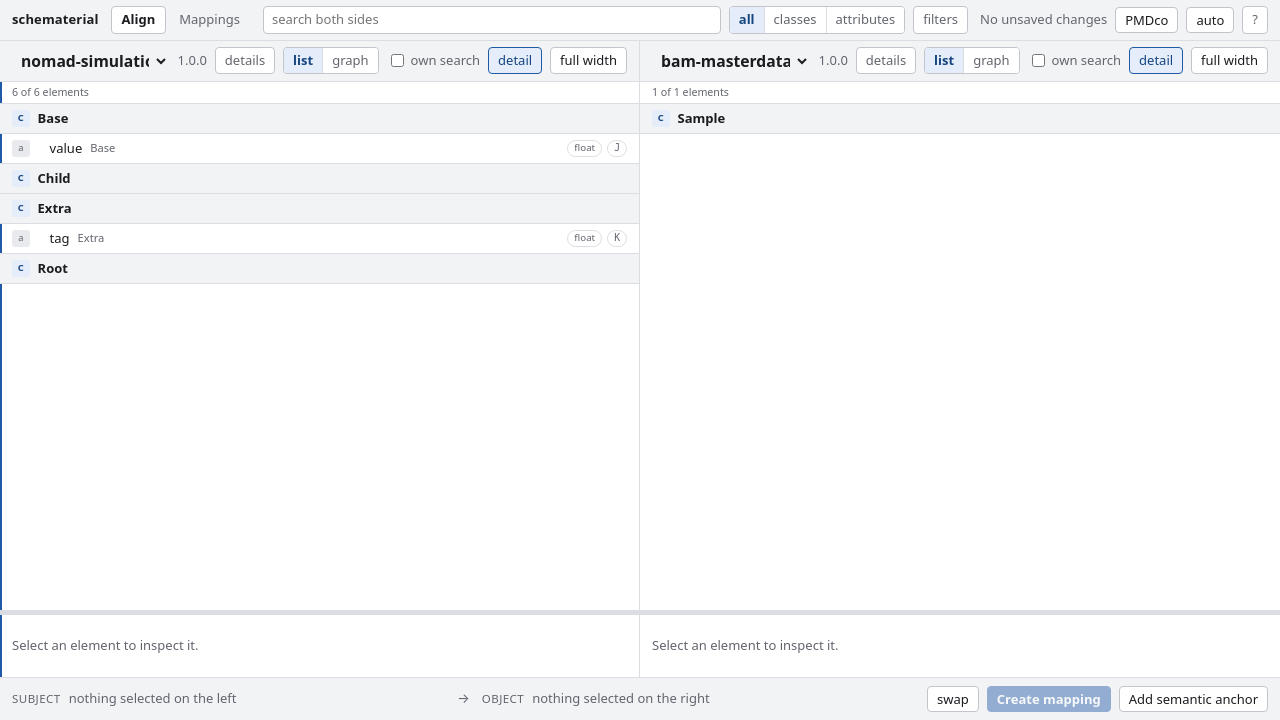
Test: the class graph › keeps the selection when the side switches back to the list
Expected: the list named "elements of nomad_fixture on the left" is shown, [0,104,639,284]
Click the 1st button "graph".
click(350, 61)  # box [323,48,378,73]
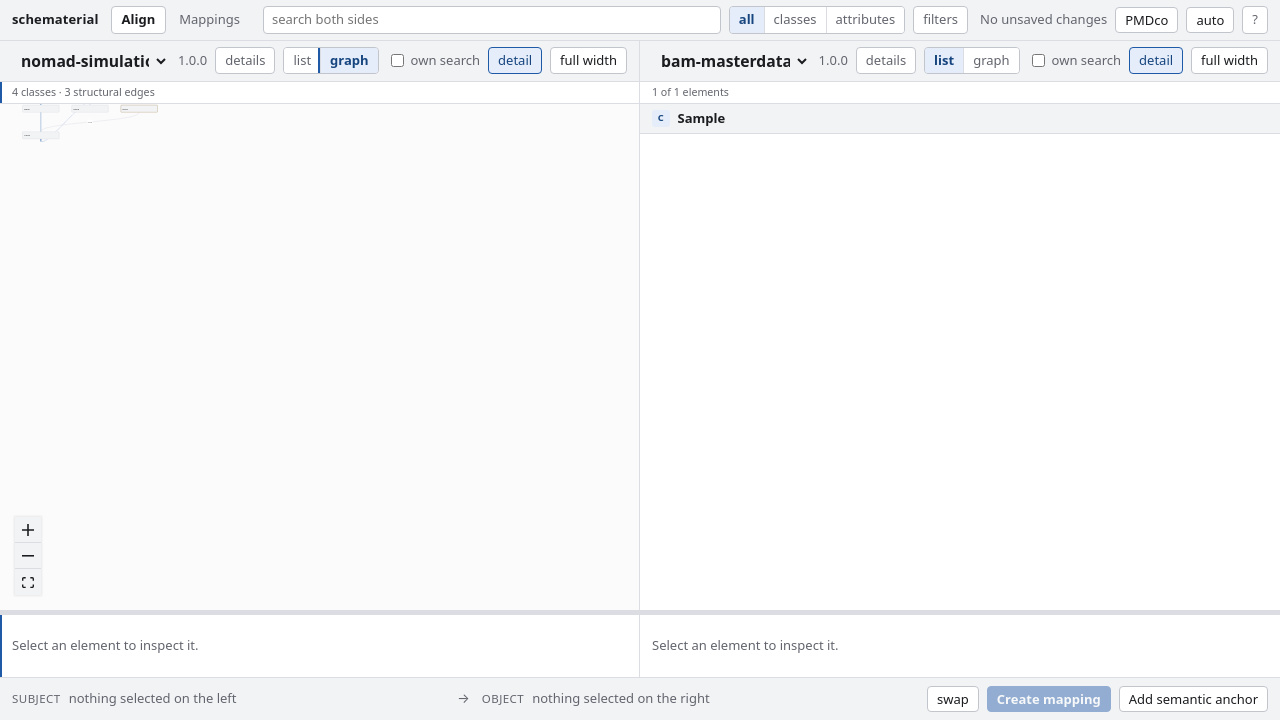
Click the element with class "react-flow__node" showing "Child".
click(41, 136)  # box [22,132,59,140]
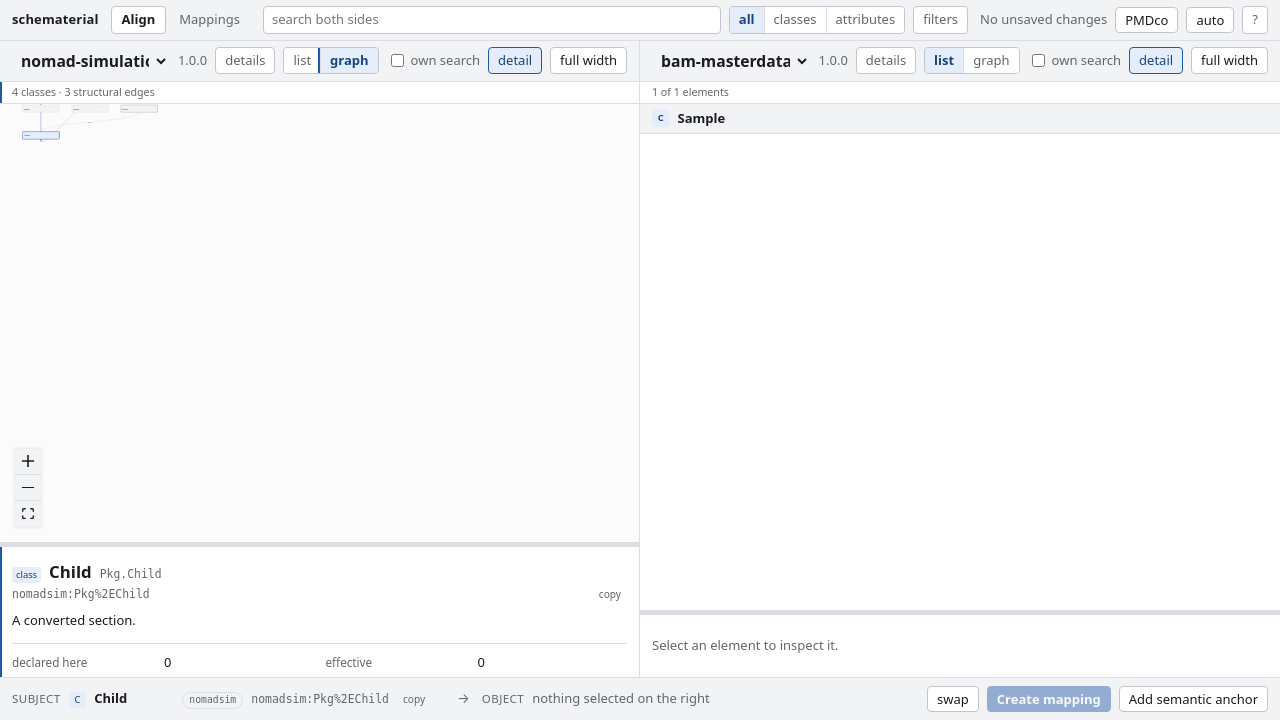
Expected: the element with class "react-flow__node" has class "selected", [22,132,59,140]
Click the 1st button "list".
click(303, 61)  # box [284,48,321,73]
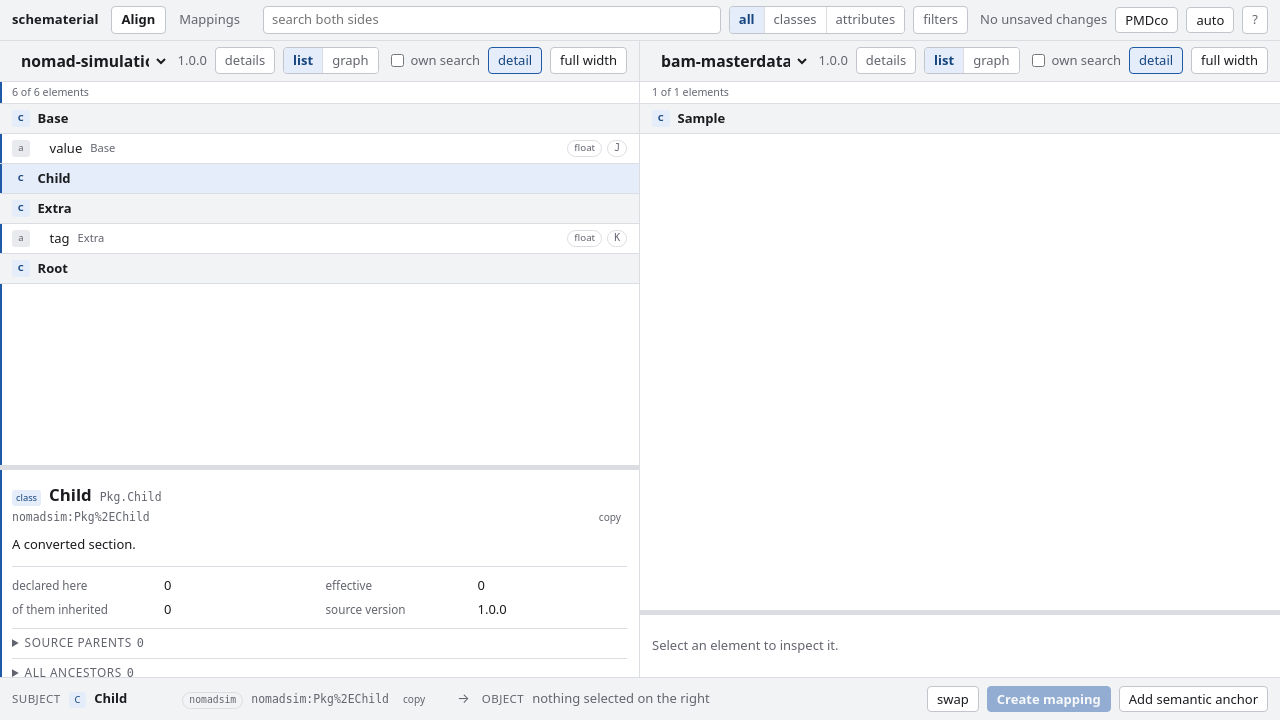
Expected: the option "C Child" is shown, [0,164,639,194]
